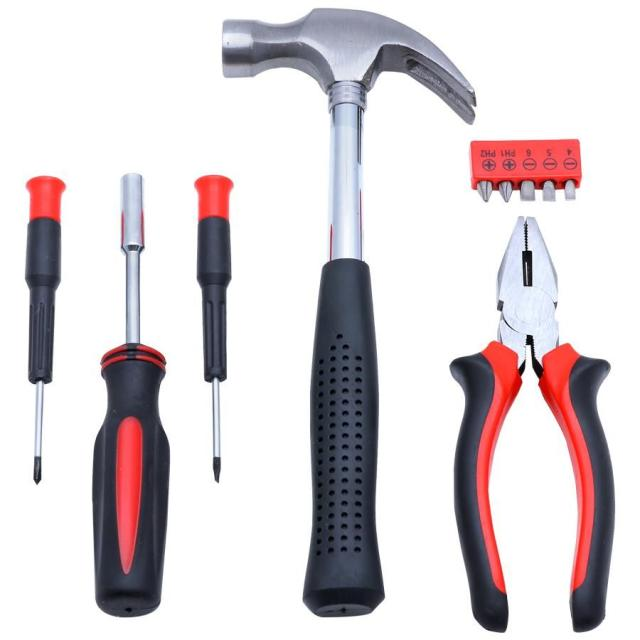Screwdriver: (92, 174, 169, 616), (25, 176, 65, 482), (196, 176, 232, 483)
